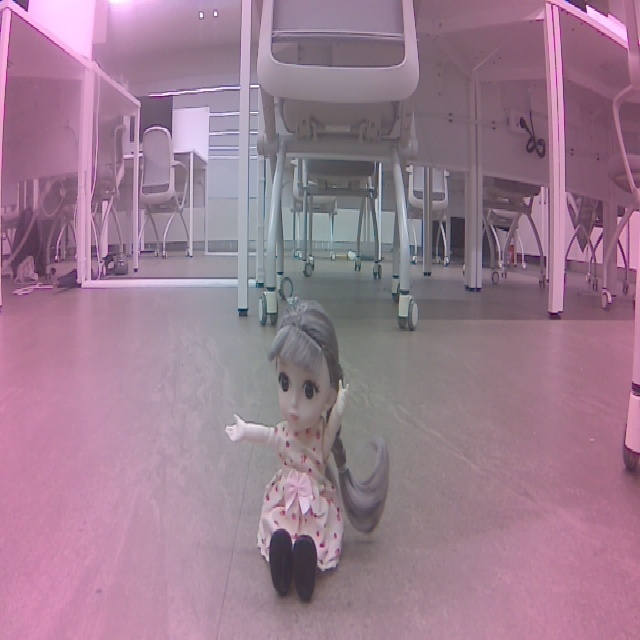장애물: (221, 290, 397, 611)
